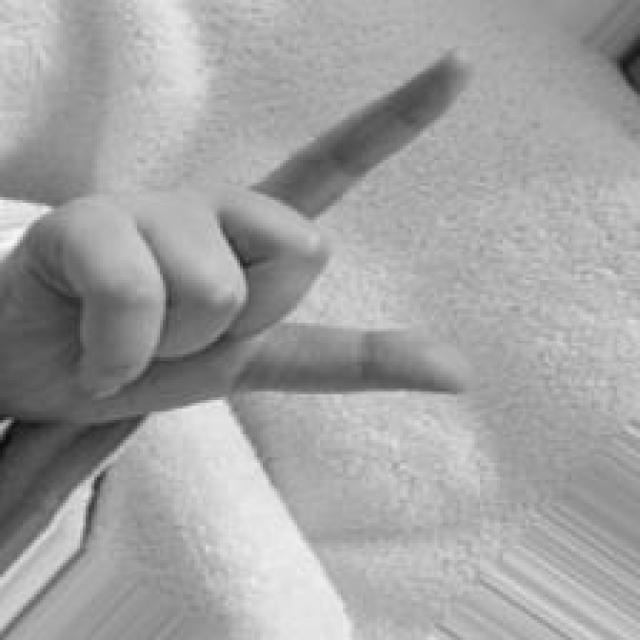L: (0, 43, 479, 423)
